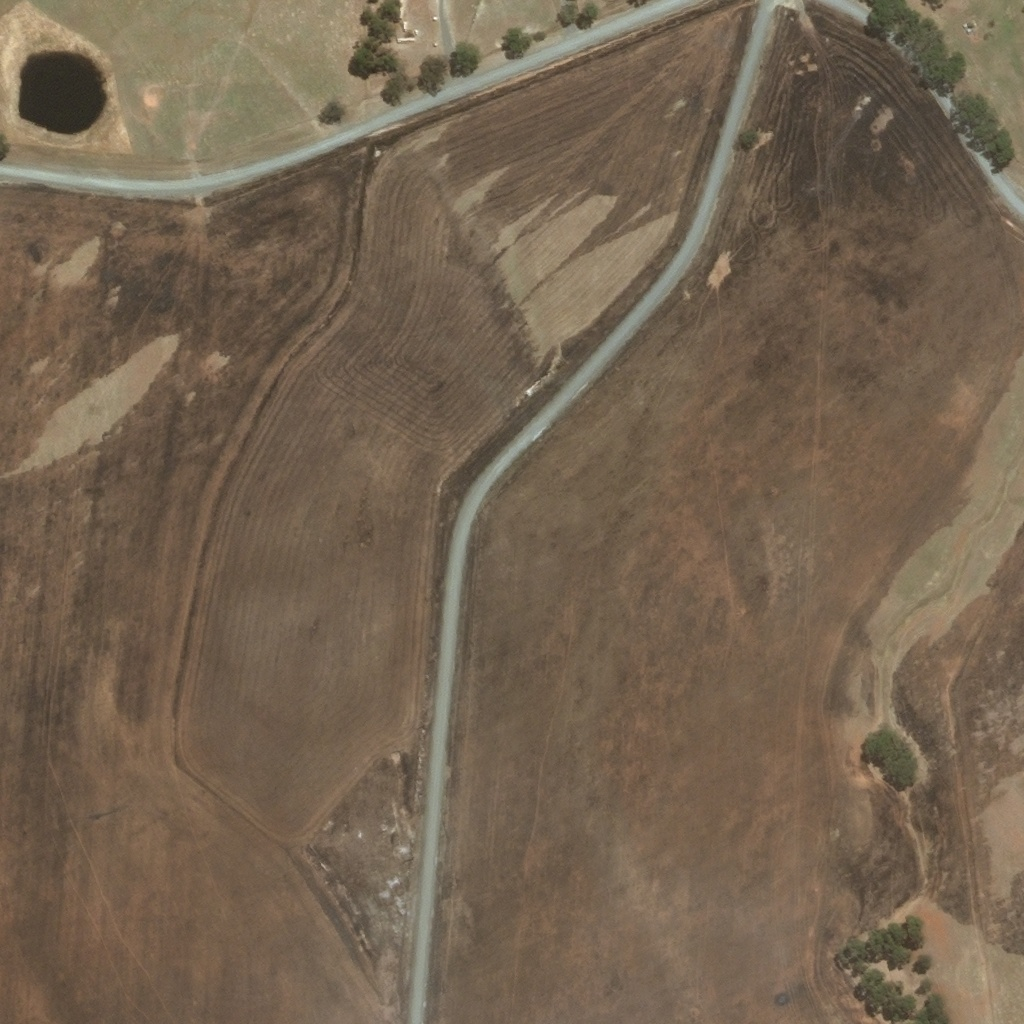0 no-damage: (961, 21, 969, 29), (969, 32, 976, 41), (965, 27, 972, 34)
